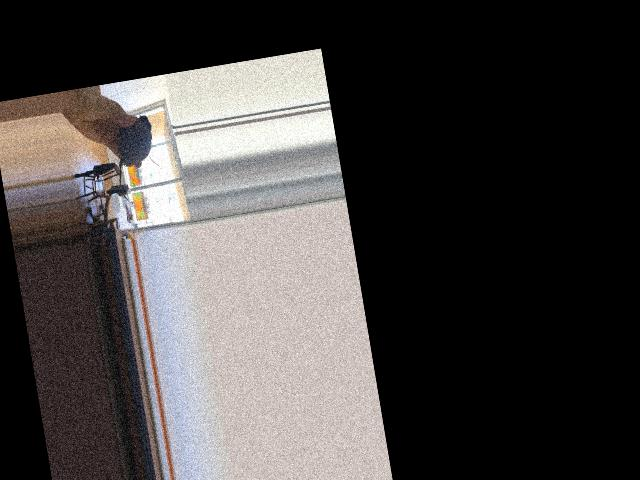beet: (109, 114, 163, 203)
